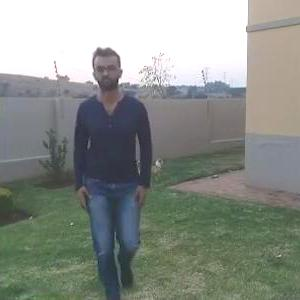follow: (81, 61, 151, 298)
